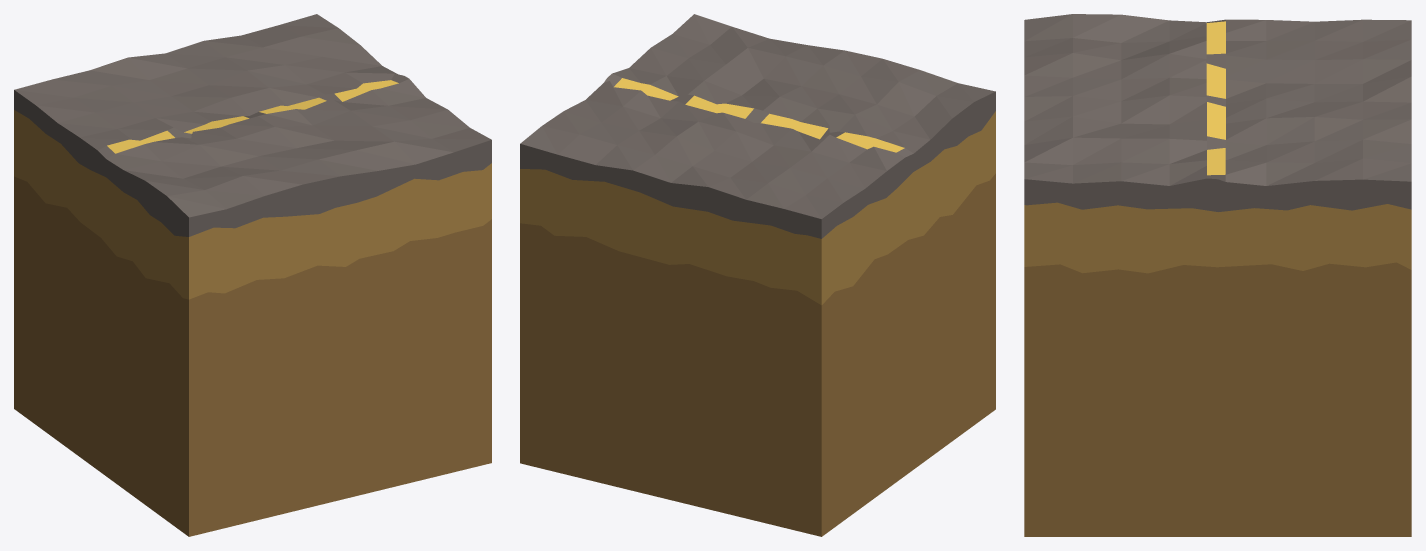
File: road-tile(1).fbx
3 renders of one model, left to right at view 1: azimuth 30°, elevation 25°; view 2: azimuth 150°, elevation 25°; view 3: azimuth 270°, elevation 25°, orthographic. The views are drawn at different scales.
Parts seen in each view (by area): view 1: Cube; view 2: Cube; view 3: Cube.
Boxes of the visible parts, left/top/right/bottom form: Cube: left=14, top=14, right=491, bottom=536; Cube: left=520, top=14, right=995, bottom=536; Cube: left=1024, top=14, right=1411, bottom=536.
Size of the model in its own units: 2 by 2.06 by 2.
